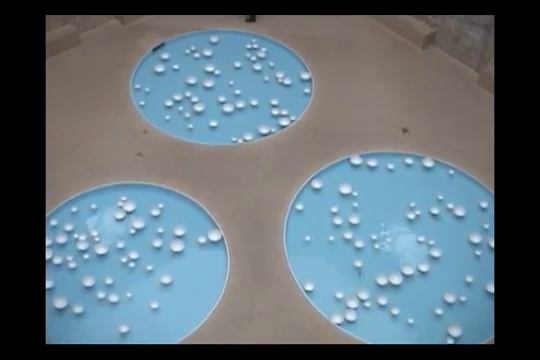bowl: (169, 237, 187, 254), (447, 323, 465, 339), (52, 294, 69, 310), (54, 230, 70, 245), (208, 227, 224, 242), (389, 270, 405, 285), (347, 210, 361, 227), (467, 231, 484, 245), (338, 181, 353, 196), (343, 308, 358, 323), (81, 275, 97, 289), (417, 260, 433, 274), (429, 245, 445, 259), (70, 303, 85, 317), (349, 153, 364, 167), (310, 177, 325, 191), (345, 295, 360, 309), (375, 272, 390, 286), (452, 205, 467, 219), (93, 243, 110, 255), (443, 292, 457, 306), (123, 199, 138, 212), (172, 224, 187, 237), (159, 273, 174, 286), (118, 321, 133, 334), (365, 155, 380, 168), (329, 312, 344, 325), (131, 218, 147, 230), (420, 156, 436, 168), (107, 292, 121, 305), (402, 263, 416, 276), (343, 227, 355, 242), (113, 209, 129, 220), (332, 214, 345, 227), (302, 280, 315, 293), (95, 289, 109, 301), (154, 63, 167, 75), (186, 74, 198, 87), (202, 77, 215, 89), (222, 102, 234, 115), (278, 115, 291, 127), (352, 239, 365, 251), (76, 240, 90, 251), (235, 98, 247, 110), (403, 155, 415, 167), (479, 199, 491, 211), (208, 33, 221, 44), (201, 47, 214, 58), (193, 102, 206, 113), (258, 125, 271, 136), (150, 208, 164, 218), (45, 247, 55, 261), (357, 289, 371, 299), (204, 62, 216, 73), (65, 259, 77, 270), (128, 249, 140, 260), (152, 237, 164, 248), (197, 233, 208, 245), (353, 258, 364, 270), (378, 295, 389, 307), (159, 50, 172, 60), (54, 254, 64, 267), (428, 207, 441, 217), (432, 307, 445, 317), (49, 217, 60, 228), (45, 279, 56, 290), (300, 70, 312, 80), (163, 99, 175, 109), (208, 118, 220, 128), (269, 106, 281, 116), (104, 277, 116, 287), (148, 300, 160, 310), (390, 306, 402, 316), (243, 133, 256, 142), (255, 50, 269, 58), (486, 281, 494, 295), (252, 62, 262, 73), (329, 204, 340, 214), (406, 210, 417, 220), (114, 241, 126, 250), (249, 99, 260, 108), (333, 291, 344, 300), (274, 70, 286, 78), (62, 223, 74, 231), (45, 235, 53, 247), (233, 61, 243, 70), (303, 87, 313, 96), (173, 92, 183, 101), (127, 227, 137, 236), (386, 163, 396, 172), (294, 202, 304, 211), (409, 200, 419, 209), (416, 234, 425, 244), (464, 274, 473, 284), (193, 49, 201, 60), (281, 77, 292, 85), (217, 95, 228, 103), (270, 98, 281, 106), (280, 107, 291, 115), (229, 136, 240, 144), (172, 62, 181, 71), (78, 232, 87, 241), (146, 265, 155, 274), (303, 234, 312, 243), (363, 300, 372, 309), (189, 95, 199, 103), (88, 203, 98, 211), (413, 209, 423, 217), (70, 206, 79, 214), (156, 227, 165, 235), (125, 291, 134, 299), (407, 317, 415, 326), (445, 201, 454, 209), (483, 223, 491, 232), (459, 295, 467, 304), (444, 338, 456, 344), (82, 253, 92, 260), (489, 237, 494, 250), (214, 69, 222, 77), (245, 42, 253, 50), (252, 41, 260, 49), (250, 53, 258, 61), (163, 115, 171, 123), (120, 256, 128, 264), (474, 249, 482, 257), (263, 75, 270, 84), (448, 169, 457, 176), (427, 239, 437, 245), (190, 45, 198, 52), (183, 48, 191, 55), (143, 87, 151, 94), (138, 100, 146, 107), (244, 50, 251, 58), (268, 61, 275, 69), (276, 77, 284, 84), (228, 80, 236, 87), (184, 91, 192, 98), (185, 112, 192, 120), (187, 123, 194, 131), (116, 200, 124, 207), (157, 203, 165, 210), (94, 237, 102, 244), (128, 262, 136, 269), (351, 191, 359, 198), (351, 201, 358, 209), (328, 235, 336, 242), (371, 232, 378, 240), (134, 83, 141, 90), (290, 115, 297, 122), (271, 126, 278, 133), (121, 194, 128, 201), (437, 193, 444, 200), (234, 89, 242, 95), (374, 243, 380, 251), (65, 256, 74, 261), (251, 36, 257, 43), (178, 105, 184, 112), (238, 137, 244, 144), (260, 46, 269, 50), (91, 230, 98, 235), (74, 232, 79, 237)
